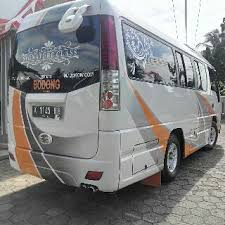plate: (32, 105, 60, 119)
